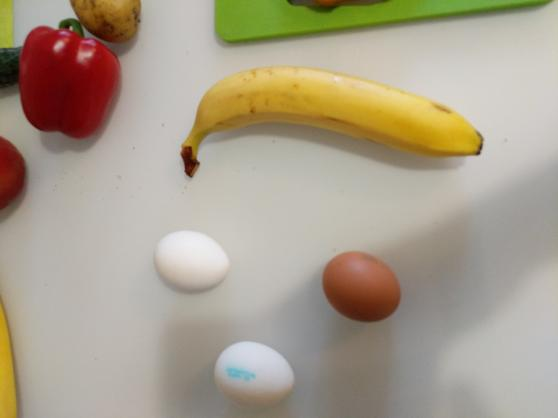banana: (181, 69, 484, 182)
egg: (215, 336, 299, 406), (326, 250, 400, 320), (153, 227, 233, 291)
pepper: (20, 21, 123, 138)
potato: (79, 1, 141, 33)
